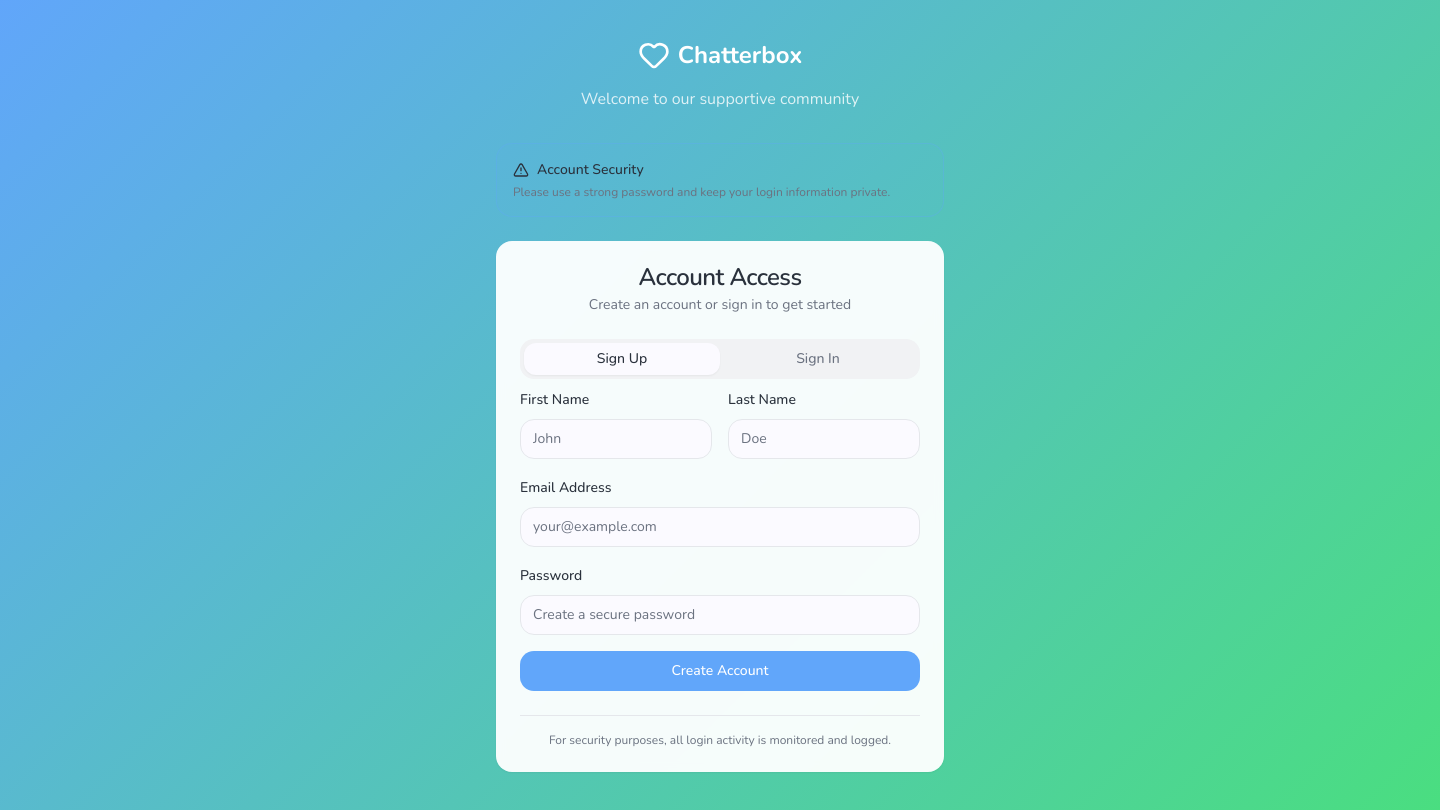
Test: Auth Page › switches between tabs
# Click sign in tab
Click the tab "Sign In" at (818, 358), box top-left (720, 342), bottom-right (916, 374)
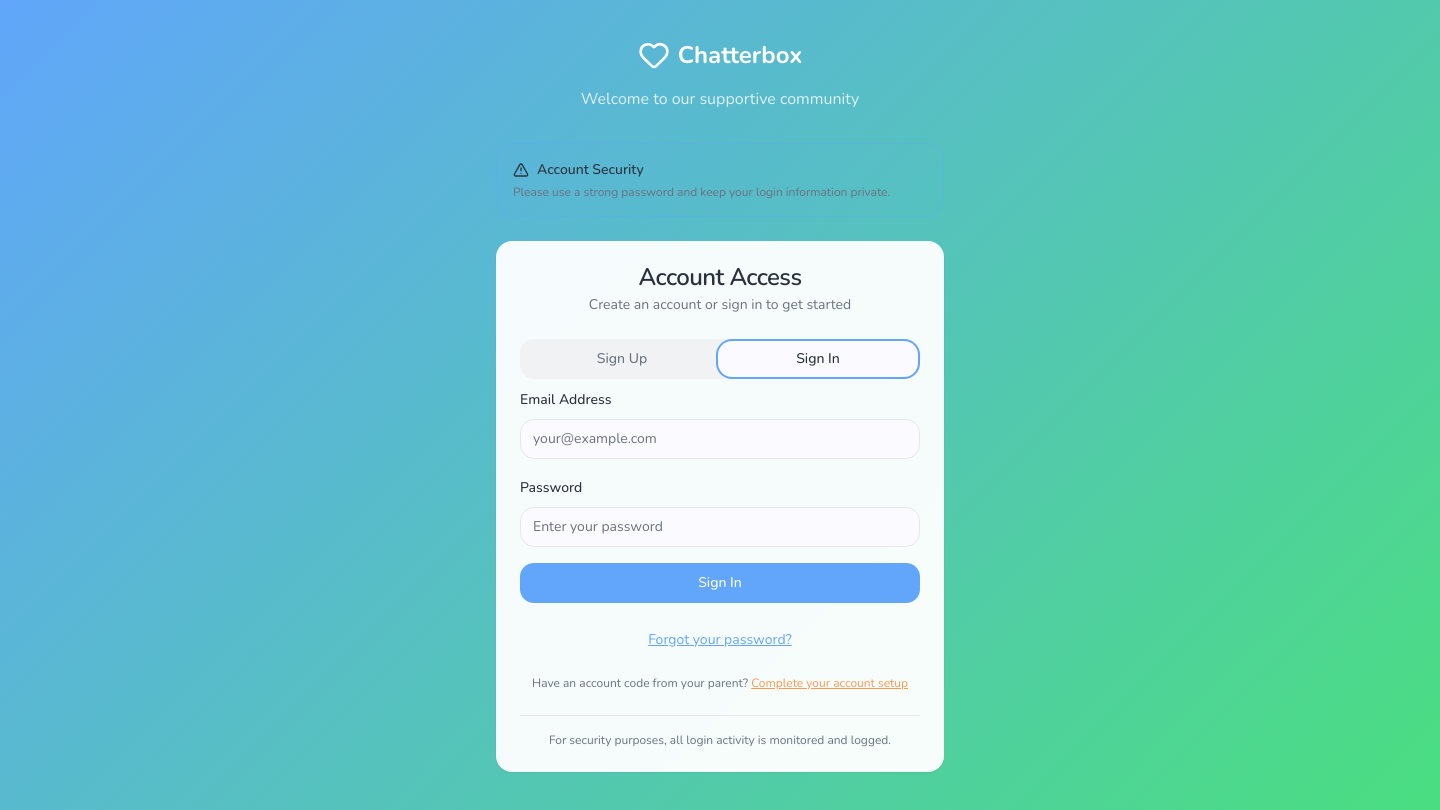
Now the tab "Sign In" has attribute data-state="active", box top-left (720, 342), bottom-right (916, 374)
